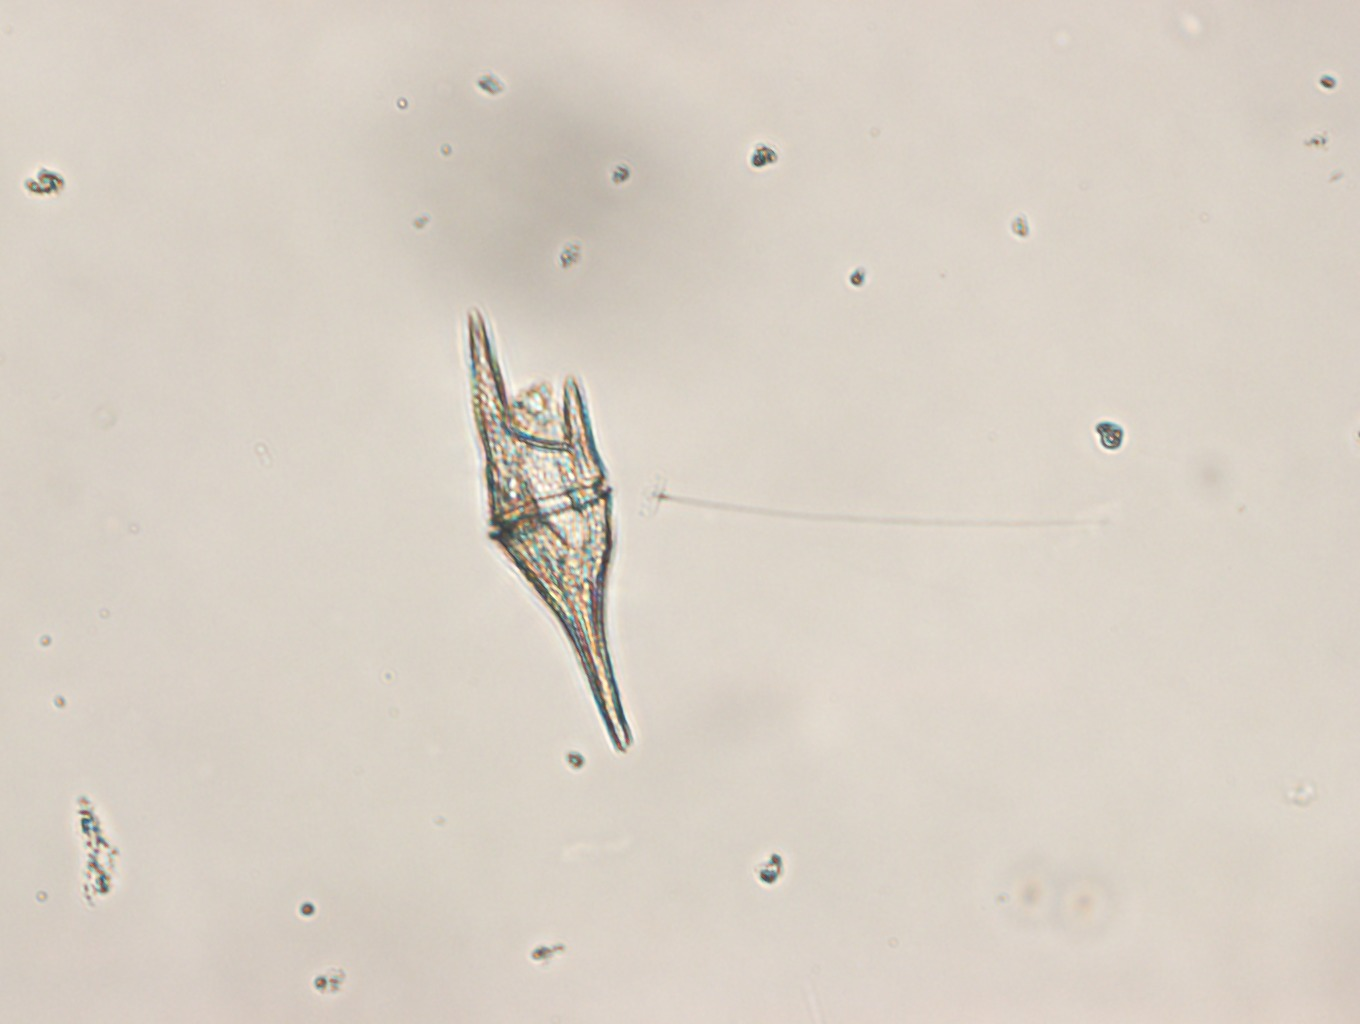ceratium furca: (466, 304, 638, 752)
